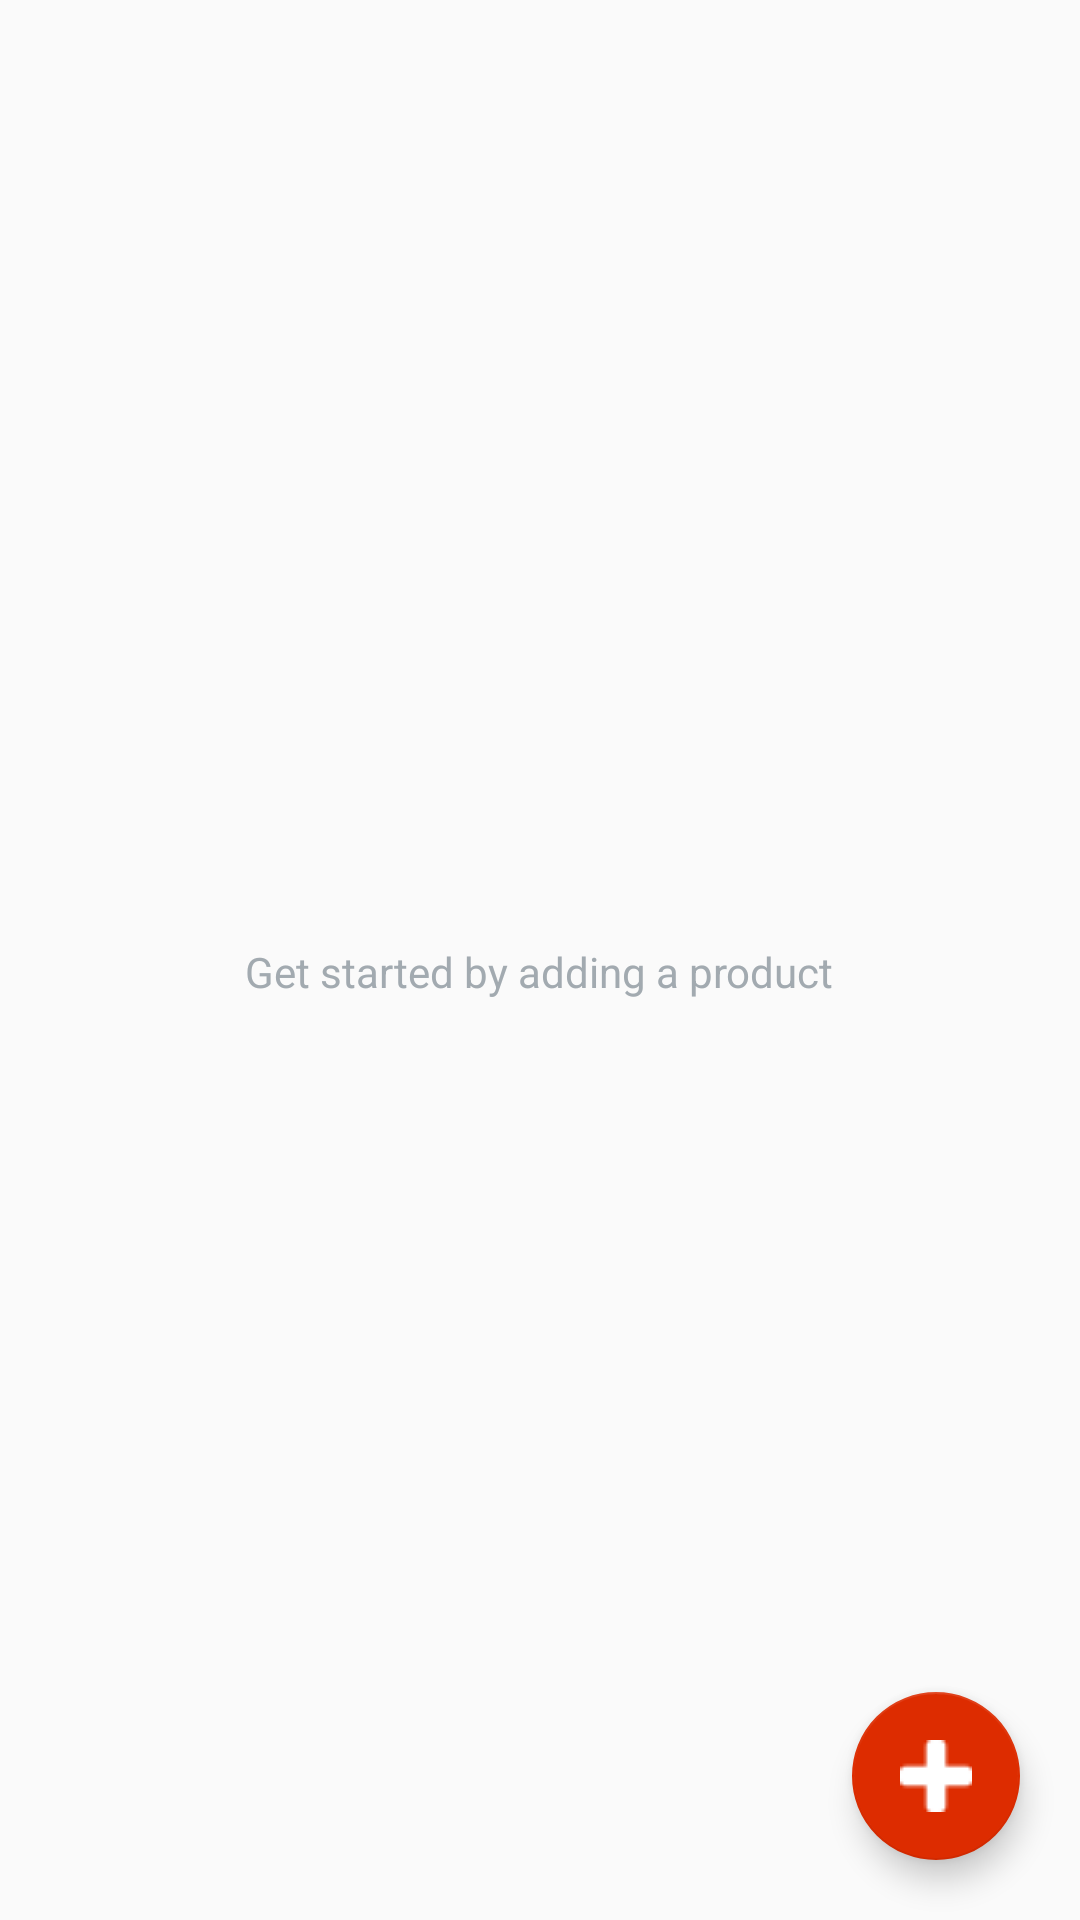

Named icons in this screenshot (1080x1920) and their centers, point (x, y):
plus: point (936, 1776)
